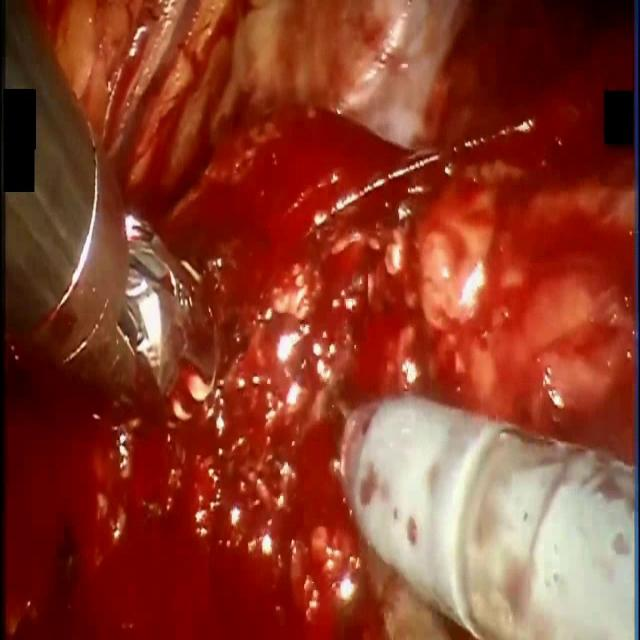surgical-area: (3, 4, 636, 639)
surgical-tool: (2, 1, 200, 410), (332, 386, 636, 639)
